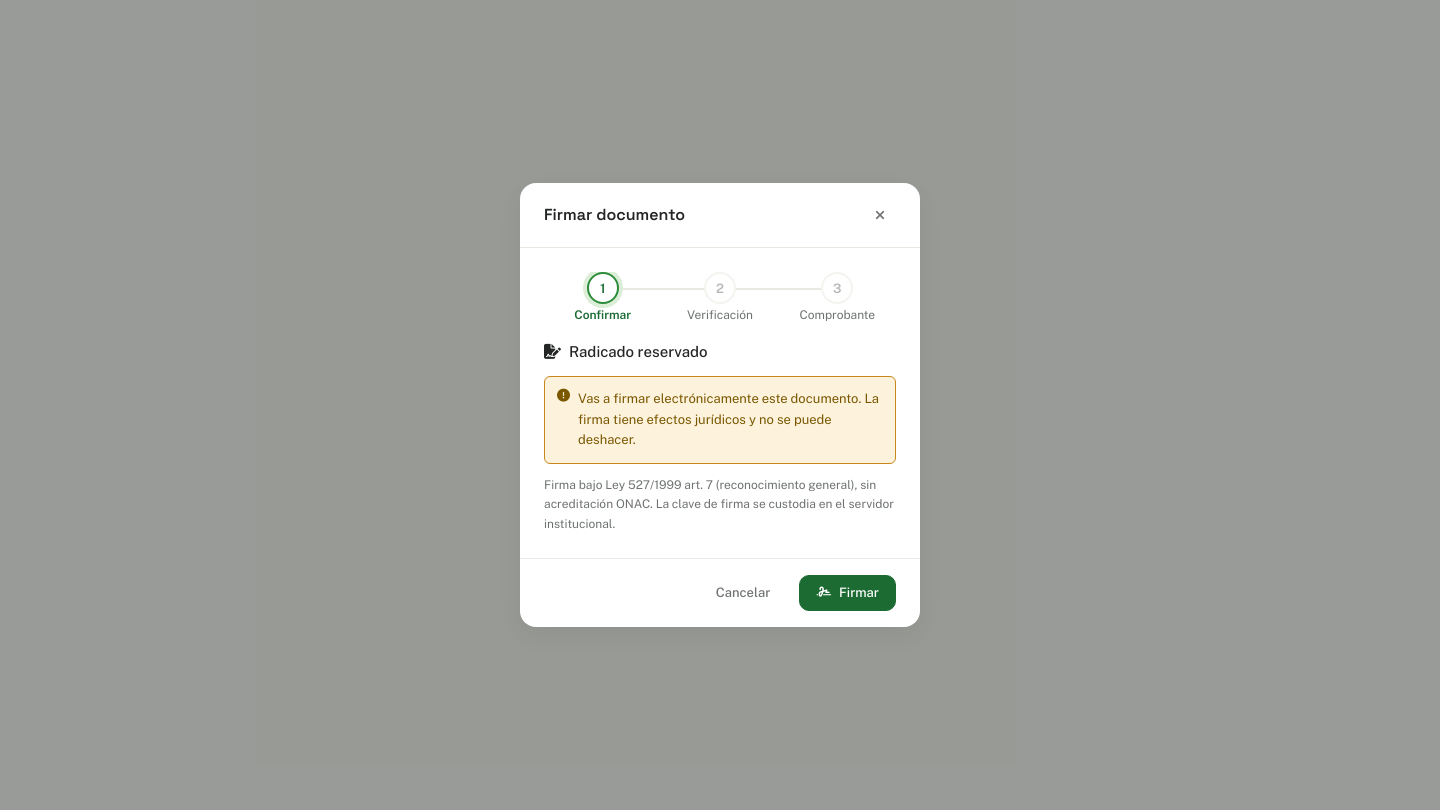
Test case: SignAssistant — segundo factor OTP (E06 Inc.2) › 409 2fa_requerido dispara el reto automáticamente y pasa al paso de verificación
This screenshot has width=1440, height=810.
Click the 2nd button named "Firmar".
click(848, 593)  # box [799,575,896,611]
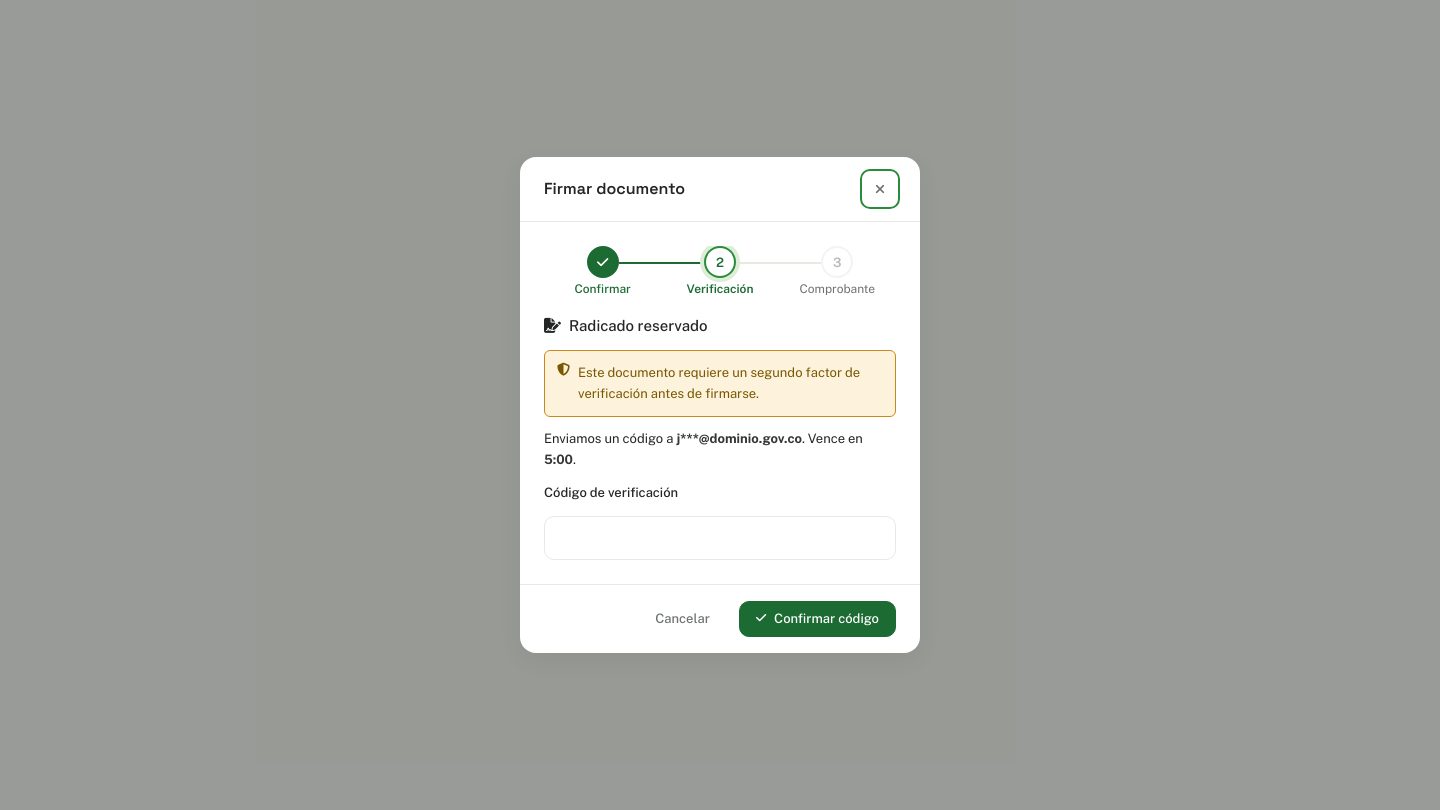
Expected: the text "Enviamos un código a j***@dominio.gov.co. Vence en 5:00." is shown, [544,429,896,471]
Expected: the text "j***@dominio.gov.co" is shown, [677,431,802,446]
